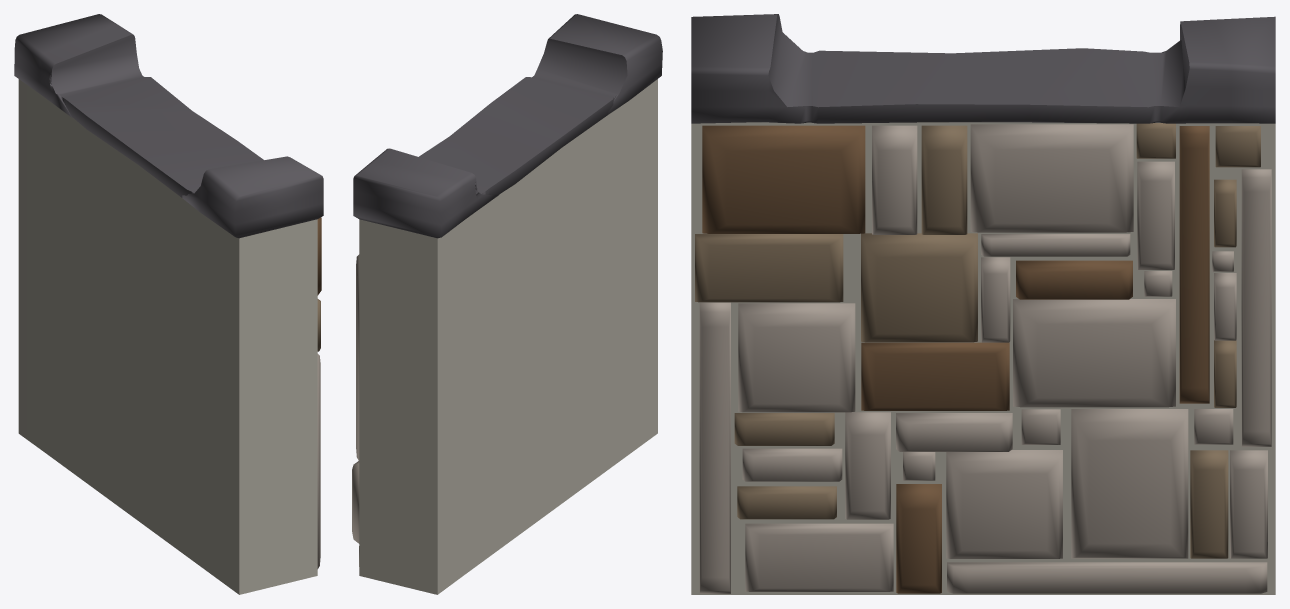
File: SM_SkyIslands_StraightLong_Waterfall.fbx
3 renders of one model, left to right at view 1: azimuth 30°, elevation 25°; view 2: azimuth 150°, elevation 25°; view 3: azimuth 270°, elevation 25°, orthographic. The views are drawn at different scales.
Visible parts, largest first — view 1: SM_SkyIslands_Straight_Long_Waterfall.002; view 2: SM_SkyIslands_Straight_Long_Waterfall.002; view 3: SM_SkyIslands_Straight_Long_Waterfall.002.
Part boxes in pixels (x1,y1,x2,y2): SM_SkyIslands_Straight_Long_Waterfall.002: [14, 14, 323, 594]; SM_SkyIslands_Straight_Long_Waterfall.002: [352, 14, 662, 594]; SM_SkyIslands_Straight_Long_Waterfall.002: [691, 14, 1275, 594].
Size of the model in its own units: 516 by 2016 by 2000.
